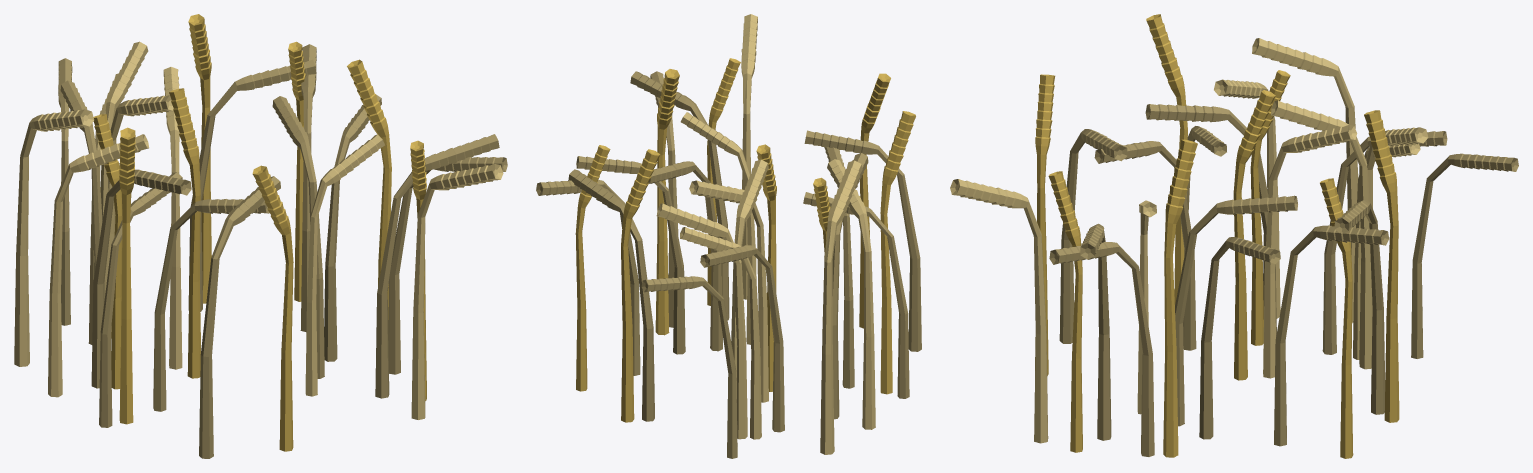
File: field.obj
3 views of the same model, side by side, from view 1: azimuth 30°, elevation 25°; view 2: azimuth 150°, elevation 25°; view 3: azimuth 270°, elevation 25° (orthographic). The views are drawn at different scales.
Parts seen in each view (by area): view 1: group_0.006_ID45, group_0_ID3, group_0.001_ID11, group_0.013_ID87, group_0.010_ID69, group_0.008_ID57, group_0.007_ID51, group_0.005_ID37, group_0.009_ID63, group_0.023_ID147, group_0.004_ID31, group_0.003_ID25 (+15 smaller); view 2: group_0.023_ID147, group_0.006_ID45, group_0.026_ID165, group_0.008_ID57, group_0.010_ID69, group_0.025_ID159, group_0.001_ID11, group_0.021_ID135, group_0.020_ID129, group_0.017_ID111, group_0.014_ID93, group_0.016_ID105 (+15 smaller); view 3: group_0.023_ID147, group_0.021_ID135, group_0.026_ID165, group_0_ID3, group_0.024_ID153, group_0.016_ID105, group_0.005_ID37, group_0.018_ID117, group_0.019_ID123, group_0.012_ID81, group_0.022_ID141, group_0.014_ID93 (+15 smaller).
Boxes of the visible parts, <box> form: group_0.006_ID45: <box>14,109,94,366</box>; group_0_ID3: <box>411,164,503,419</box>; group_0.001_ID11: <box>48,134,149,397</box>; group_0.013_ID87: <box>375,134,499,398</box>; group_0.010_ID69: <box>199,176,280,458</box>; group_0.008_ID57: <box>119,127,135,424</box>; group_0.007_ID51: <box>252,165,293,451</box>; group_0.005_ID37: <box>169,88,200,378</box>; group_0.009_ID63: <box>305,134,384,396</box>; group_0.023_ID147: <box>100,41,173,338</box>; group_0.004_ID31: <box>153,199,269,411</box>; group_0.003_ID25: <box>91,169,191,388</box>; group_0.023_ID147: <box>656,159,768,439</box>; group_0.006_ID45: <box>820,160,862,454</box>; group_0.026_ID165: <box>621,149,660,422</box>; group_0.008_ID57: <box>880,111,915,394</box>; group_0.010_ID69: <box>804,130,921,351</box>; group_0.025_ID159: <box>568,169,654,421</box>; group_0.001_ID11: <box>827,159,875,429</box>; group_0.021_ID135: <box>655,69,679,335</box>; group_0.020_ID129: <box>700,245,784,432</box>; group_0.017_ID111: <box>680,227,761,439</box>; group_0.014_ID93: <box>641,276,737,458</box>; group_0.016_ID105: <box>689,180,768,402</box>; group_0.023_ID147: <box>1271,100,1428,369</box>; group_0.021_ID135: <box>1163,139,1197,457</box>; group_0.026_ID165: <box>1364,110,1399,422</box>; group_0_ID3: <box>950,179,1048,443</box>; group_0.024_ID153: <box>1274,225,1388,446</box>; group_0.016_ID105: <box>1263,124,1357,378</box>; group_0.005_ID37: <box>1233,90,1275,380</box>; group_0.018_ID117: <box>1175,195,1297,426</box>; group_0.019_ID123: <box>1049,242,1154,456</box>; group_0.012_ID81: <box>1048,171,1082,452</box>; group_0.022_ID141: <box>1199,237,1280,439</box>; group_0.014_ID93: <box>1411,153,1518,358</box>.
Bounding box in the file's own units: 1.11 × 0.9014 × 1.51.
